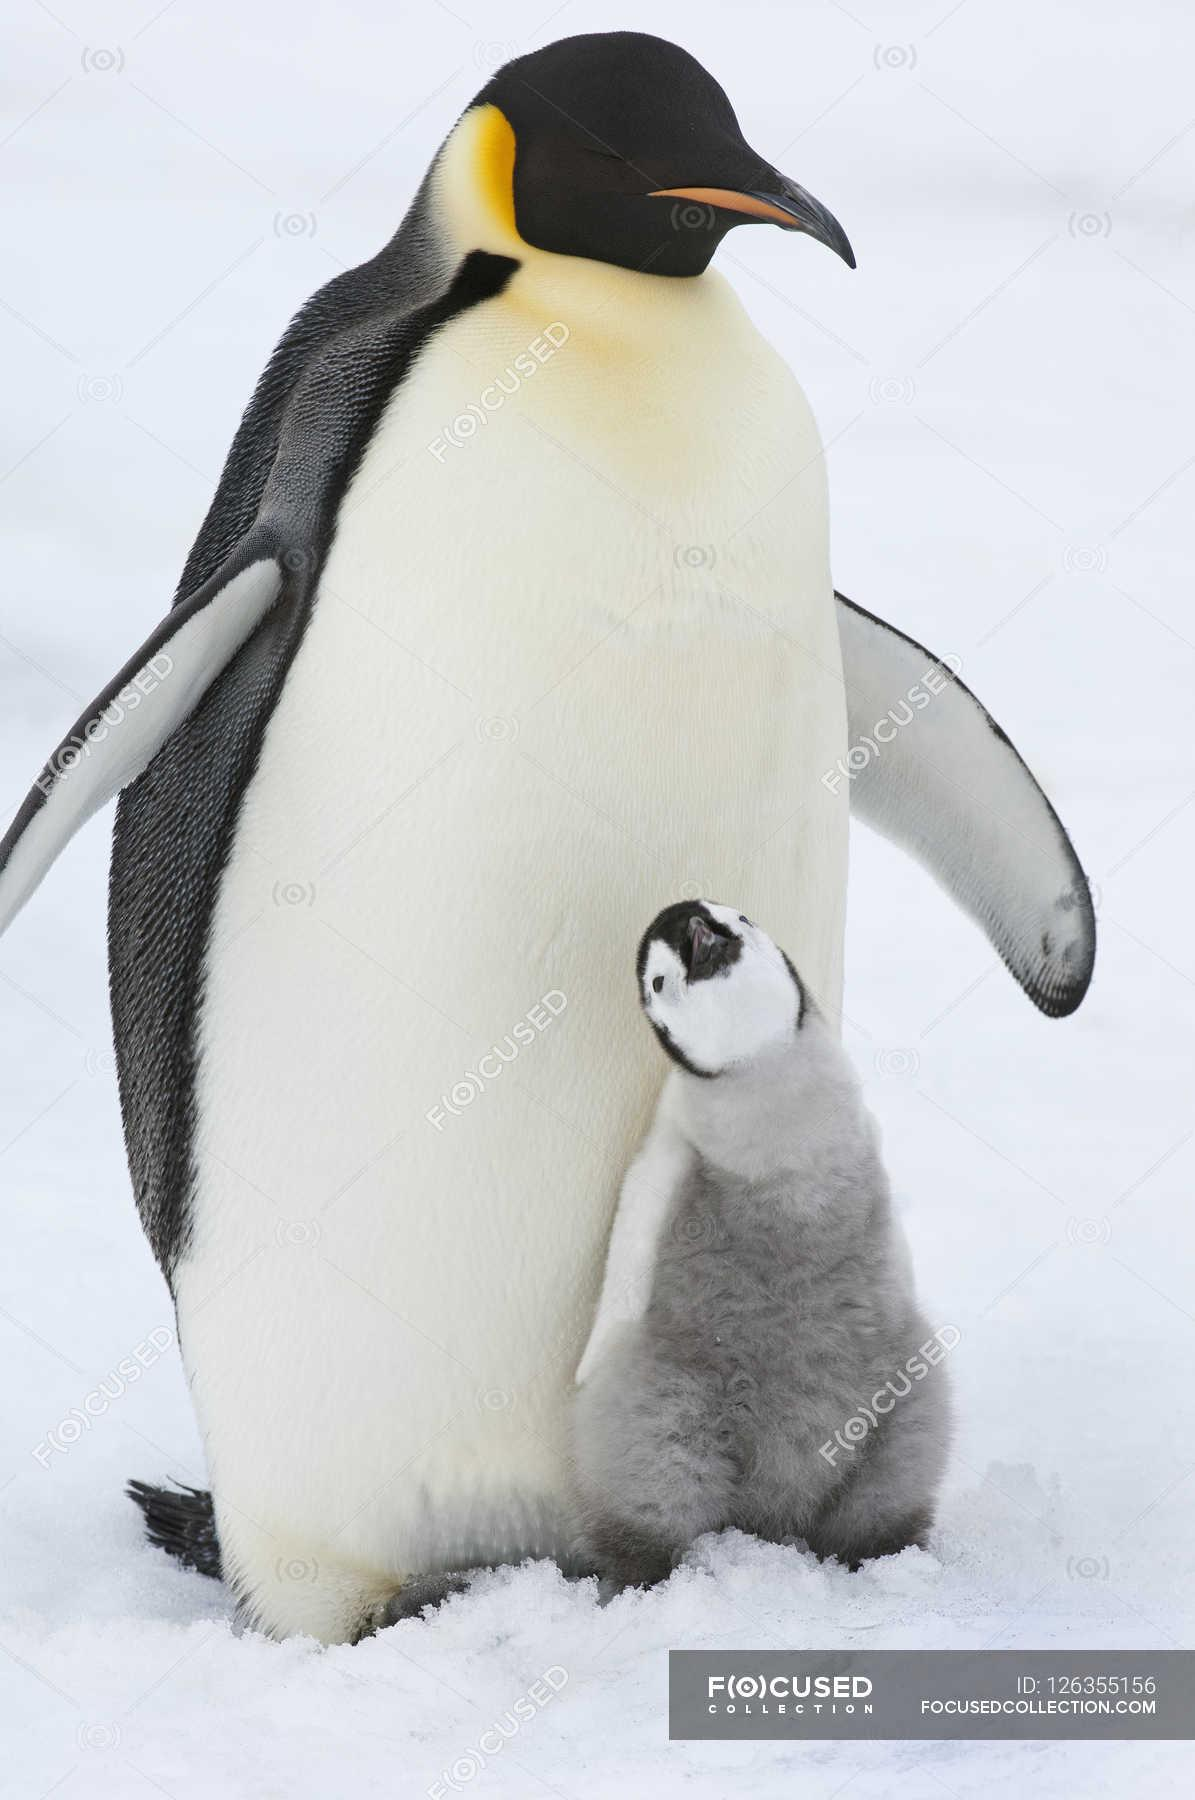emporer: (31, 16, 1050, 1632)
